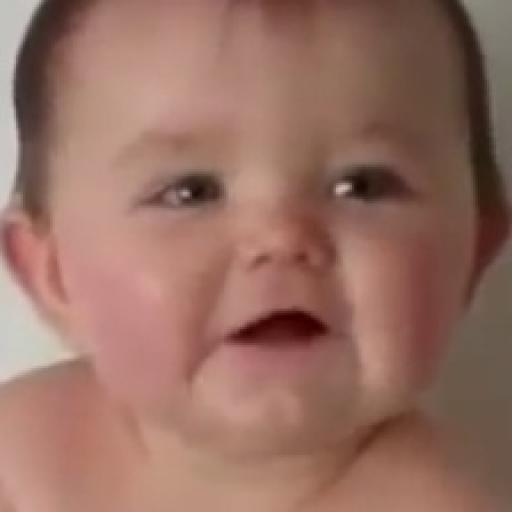Autism: (88, 14, 480, 420)
